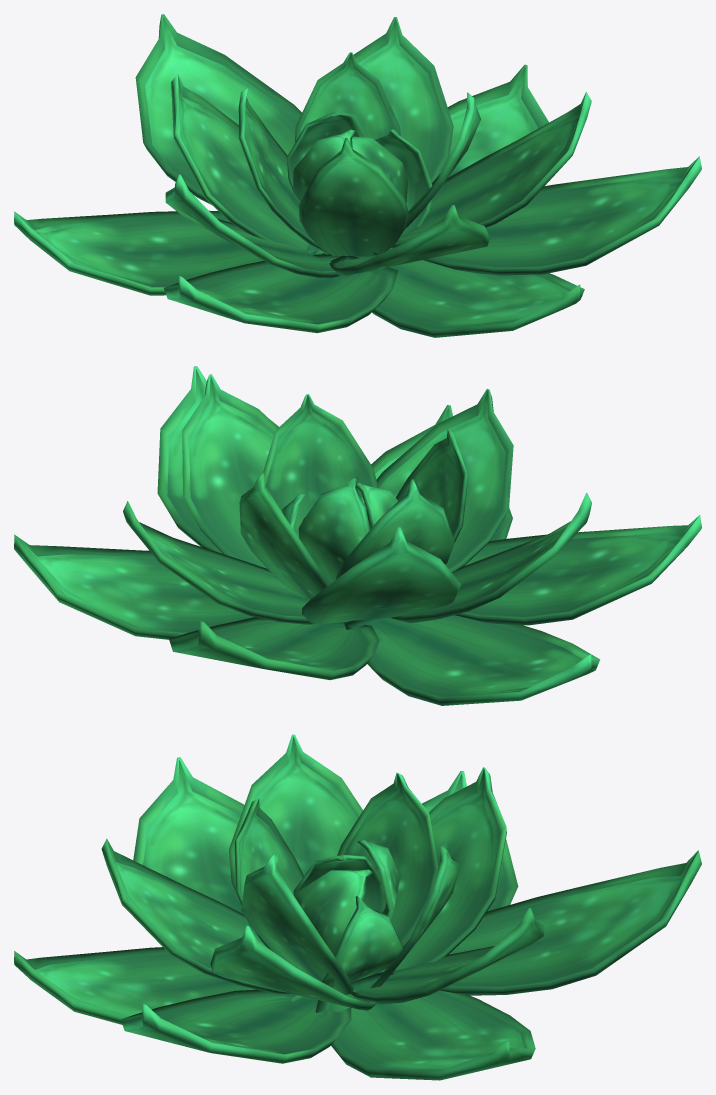
The model's file is chous.fbx.
The picture shows the model from 3 angles, top to bottom: view 1: azimuth 30°, elevation 25°; view 2: azimuth 150°, elevation 25°; view 3: azimuth 270°, elevation 25°; orthographic projection. The views are drawn at different scales.
Visible parts, largest first — view 1: WasserAloe_normal_groß; view 2: WasserAloe_normal_groß; view 3: WasserAloe_normal_groß.
Part boxes in pixels (<box>): WasserAloe_normal_groß: <box>14,14,701,337</box>; WasserAloe_normal_groß: <box>14,366,701,705</box>; WasserAloe_normal_groß: <box>14,734,701,1080</box>.
Size of the model in its own units: 502 by 156 by 534.
